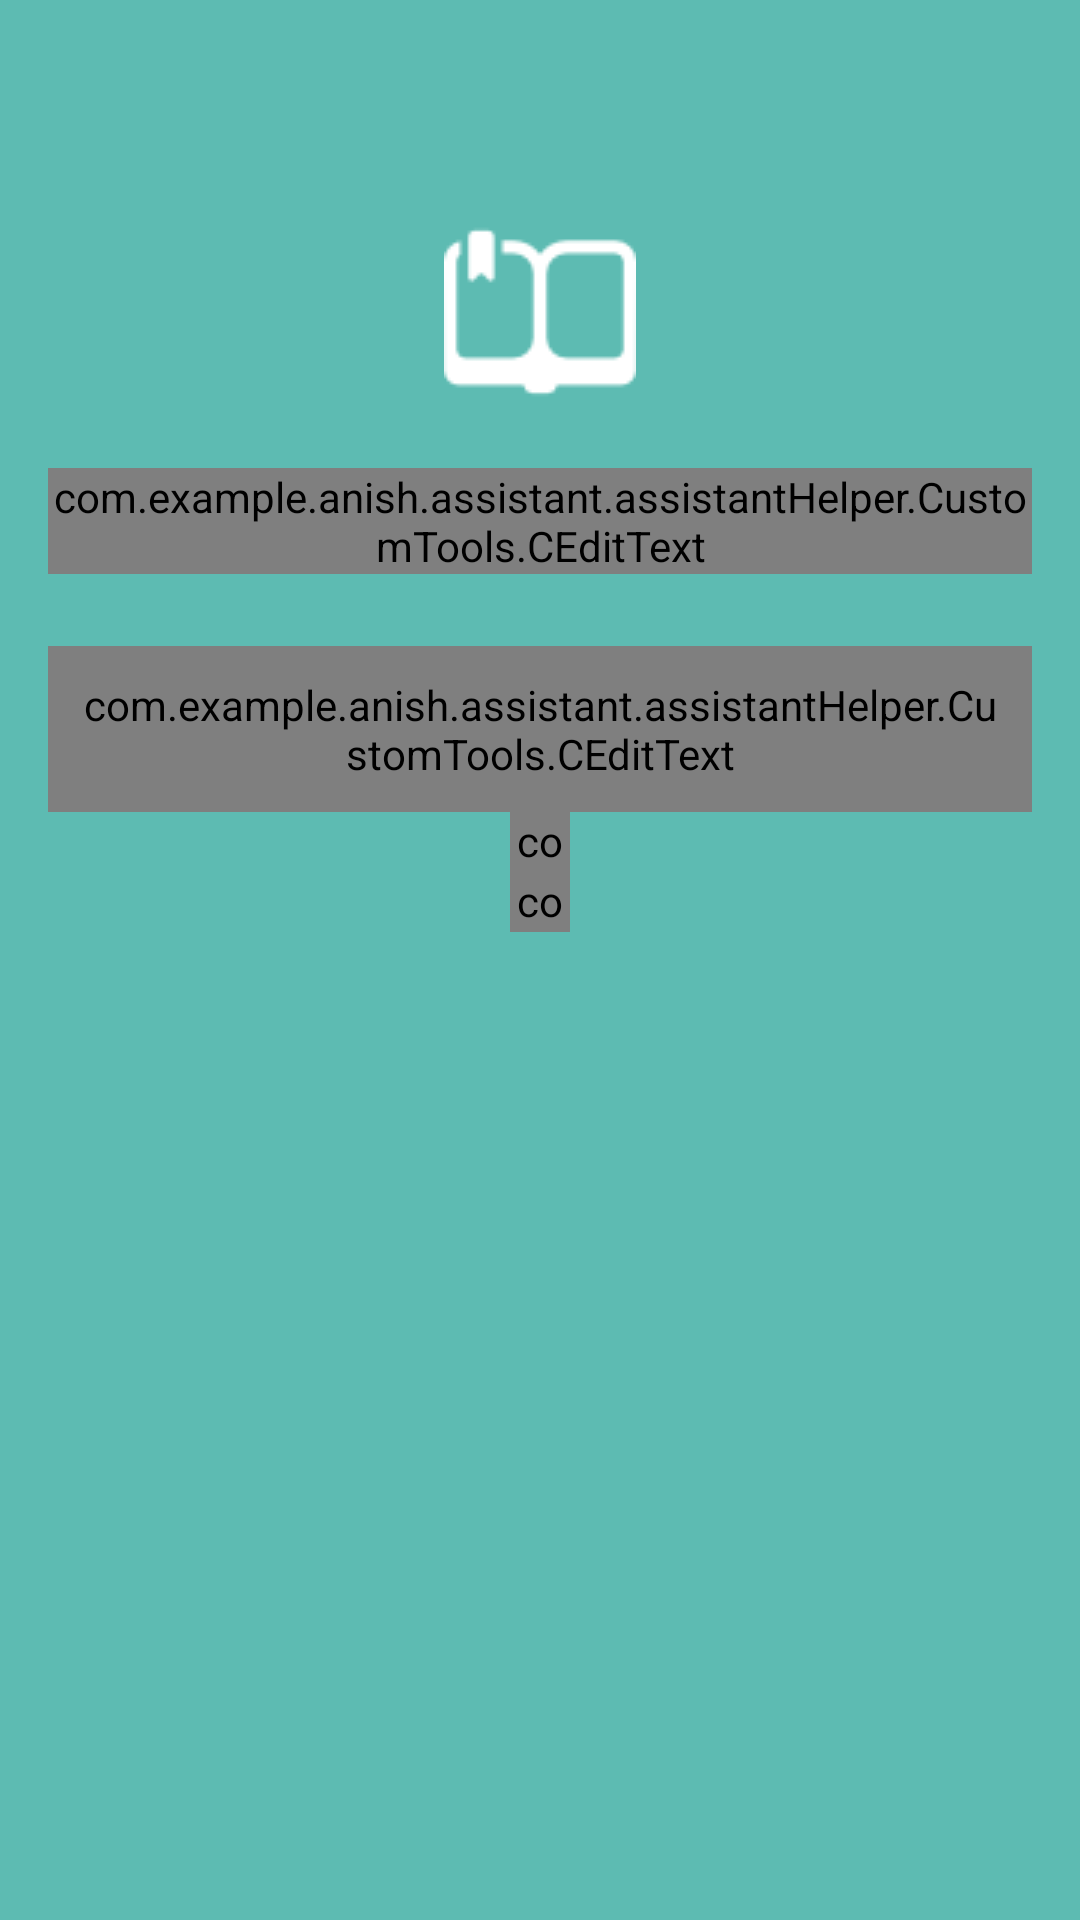

Icons on this 1080px×1920px Android screen, each with the point to tap as point (x, y):
notes mark: point (540, 312)
